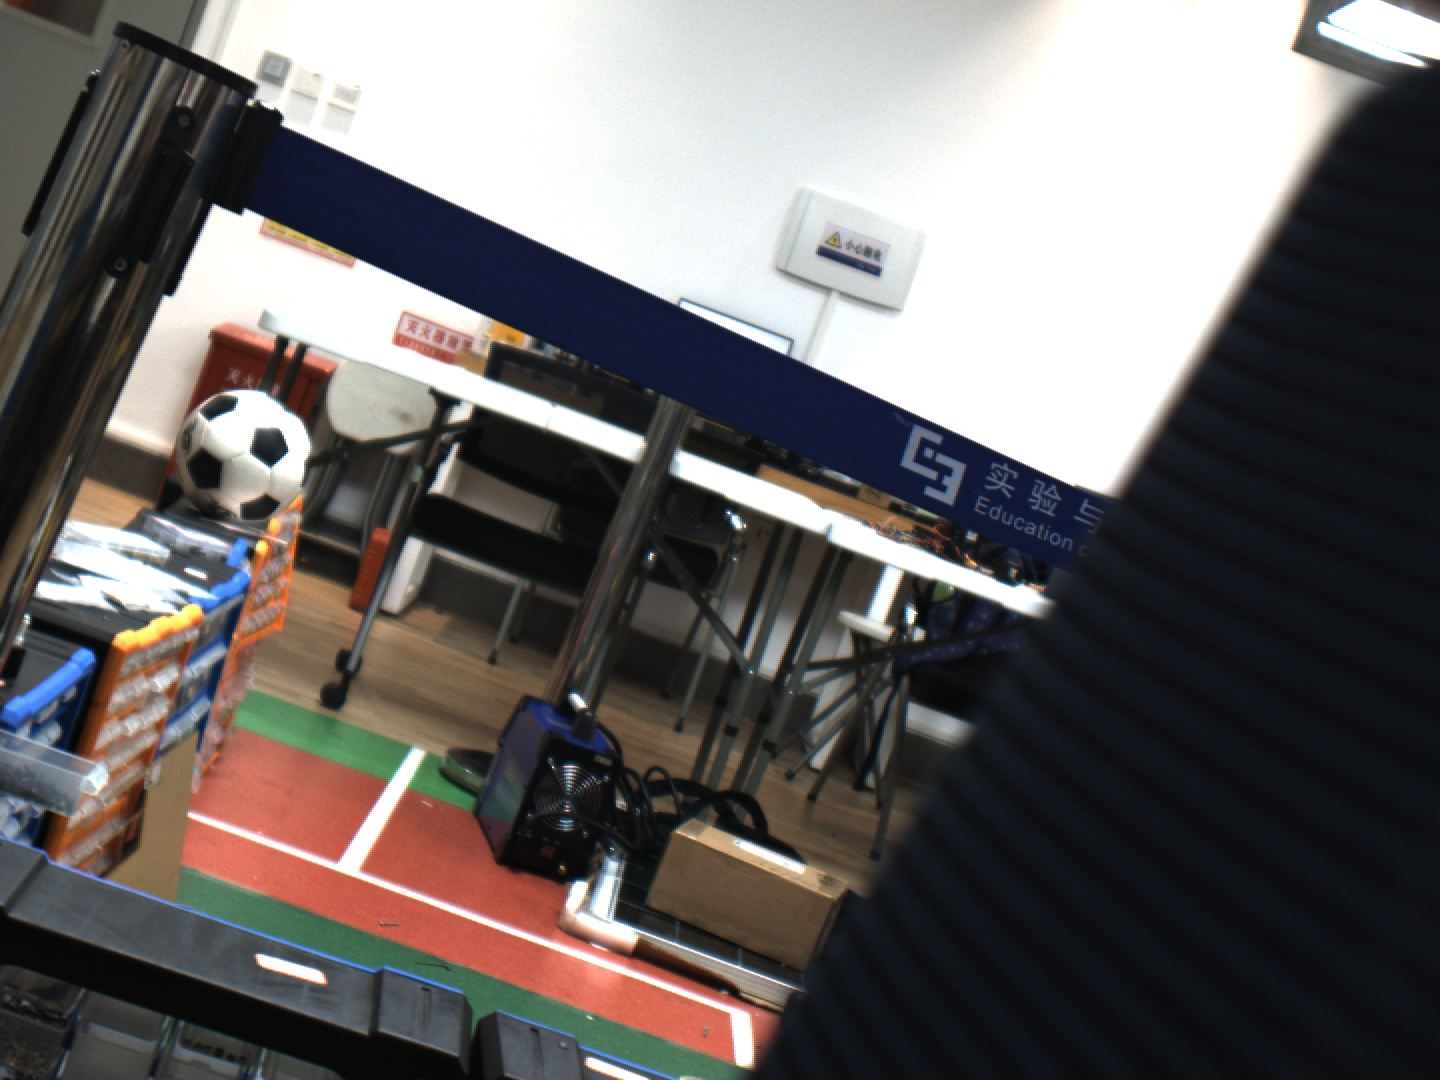ball: (154, 377, 342, 532)
